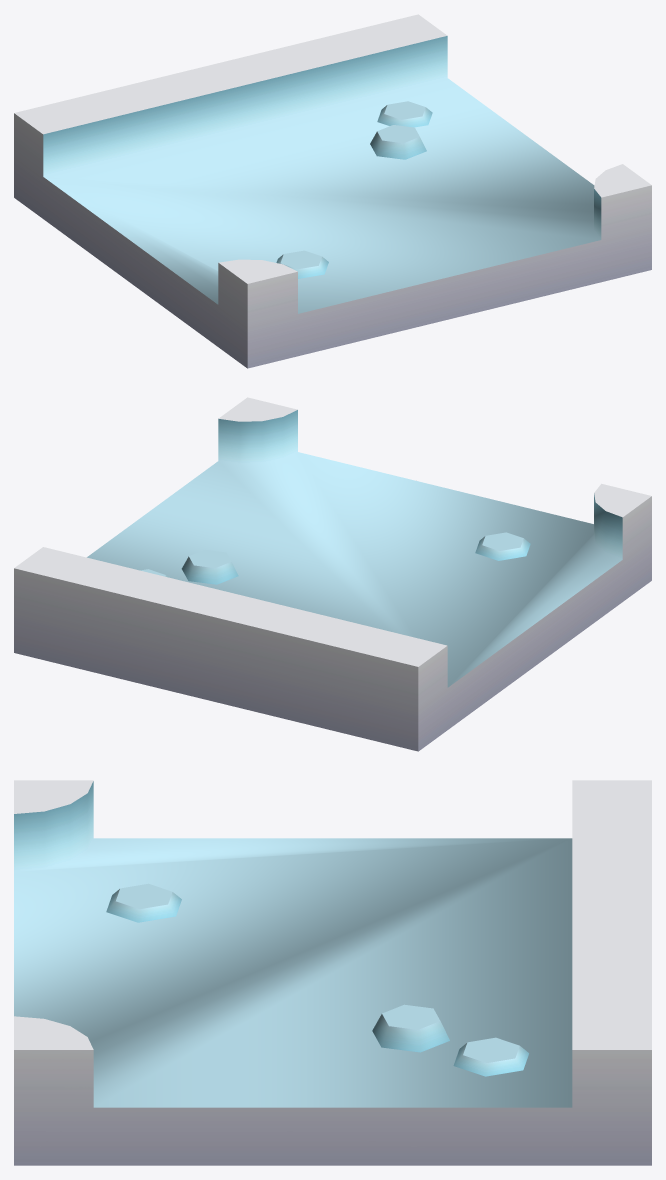
Rendered from kenney-tower-defense-snow-tile-split.glb.
3 renders of one model, top to bottom at view 1: azimuth 30°, elevation 25°; view 2: azimuth 150°, elevation 25°; view 3: azimuth 270°, elevation 25°, orthographic. The views are drawn at different scales.
Visible parts, largest first — view 1: snow-tile-split; view 2: snow-tile-split; view 3: snow-tile-split.
Part boxes in pixels (x1,y1,x2,y2): snow-tile-split: (14,14,651,368); snow-tile-split: (14,397,651,751); snow-tile-split: (14,780,651,1165).
Bounding box in the file's own units: 1 × 0.2 × 1.
1 material, 1 textured.
